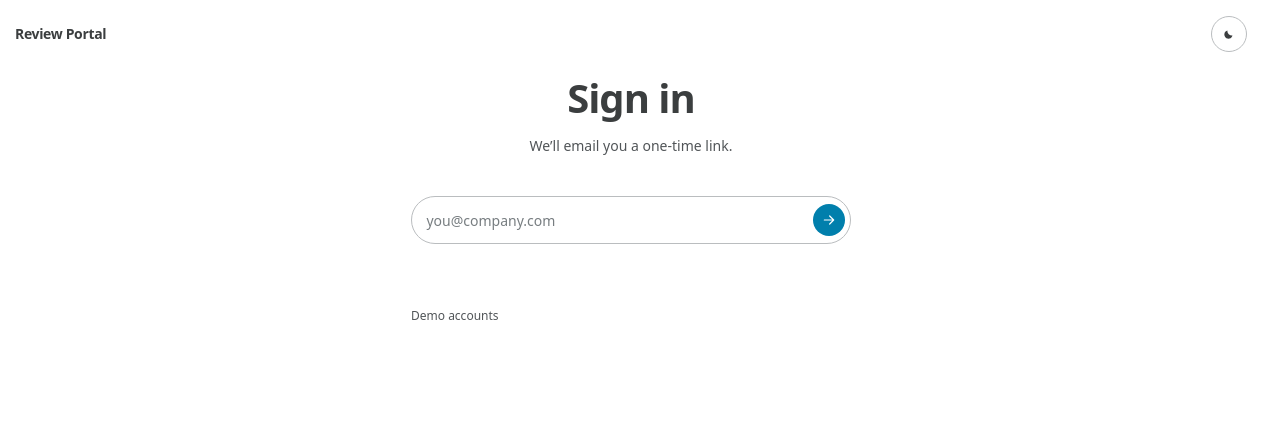
Test case: login and staff pages › renders a dev inbox link after magic-link request
In the field named "Email": (631, 220) [411, 196, 851, 244], type "sam@agency.test"
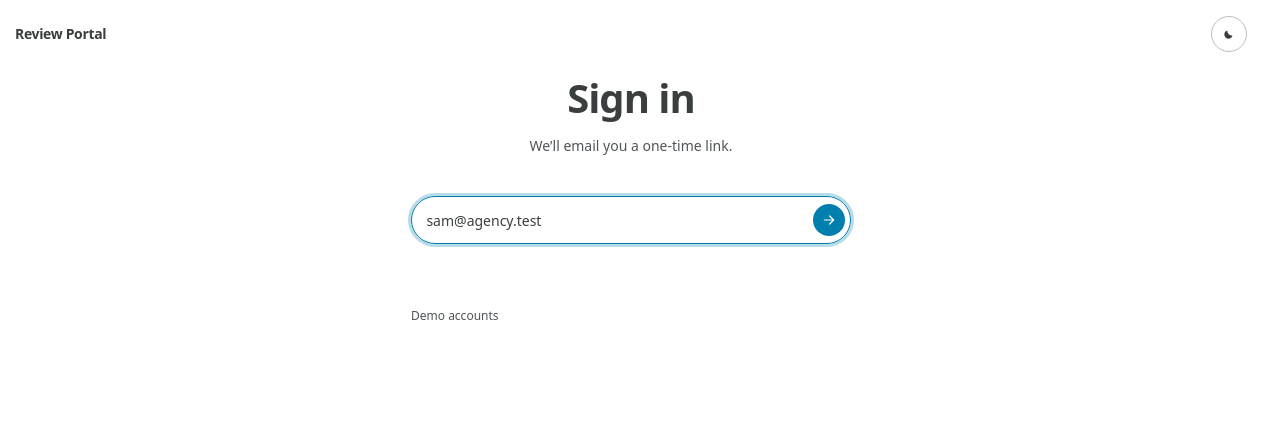
Click the button named "Send sign-in link": (829, 220) [813, 204, 845, 236]
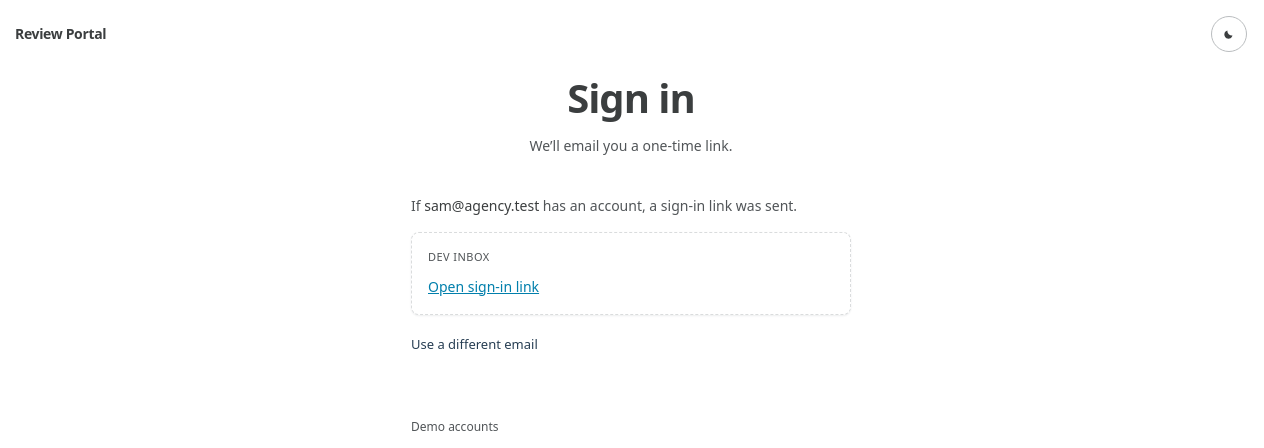
expect the text "Dev inbox" is shown: met, box [428, 249, 490, 264]
